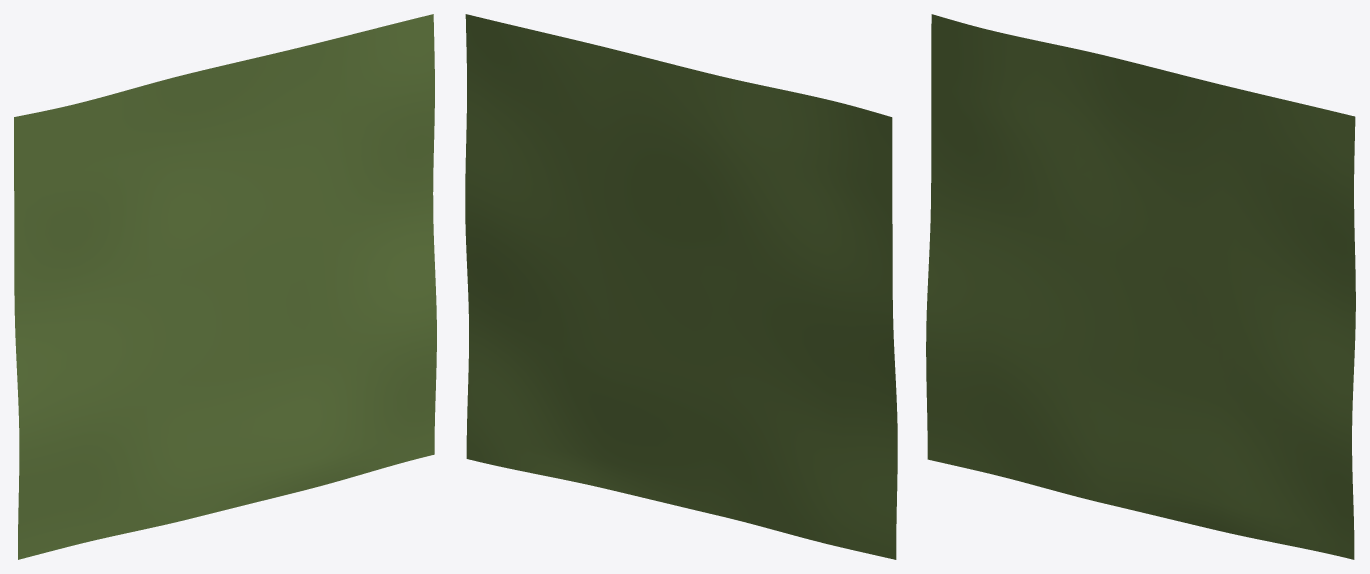
Rendered from island_terrain_19_06.obj.
3 views of the same model, side by side, from view 1: azimuth 30°, elevation 25°; view 2: azimuth 150°, elevation 25°; view 3: azimuth 330°, elevation 25° (orthographic).
Parts seen in each view (by area): view 1: island_terrain_19_06; view 2: island_terrain_19_06; view 3: island_terrain_19_06.
Part boxes in pixels (left/top/right/bottom): island_terrain_19_06: left=14, top=14, right=436, bottom=559; island_terrain_19_06: left=465, top=14, right=897, bottom=559; island_terrain_19_06: left=926, top=14, right=1355, bottom=559.
Size of the model in its own units: 256 by 256 by 7.68.
